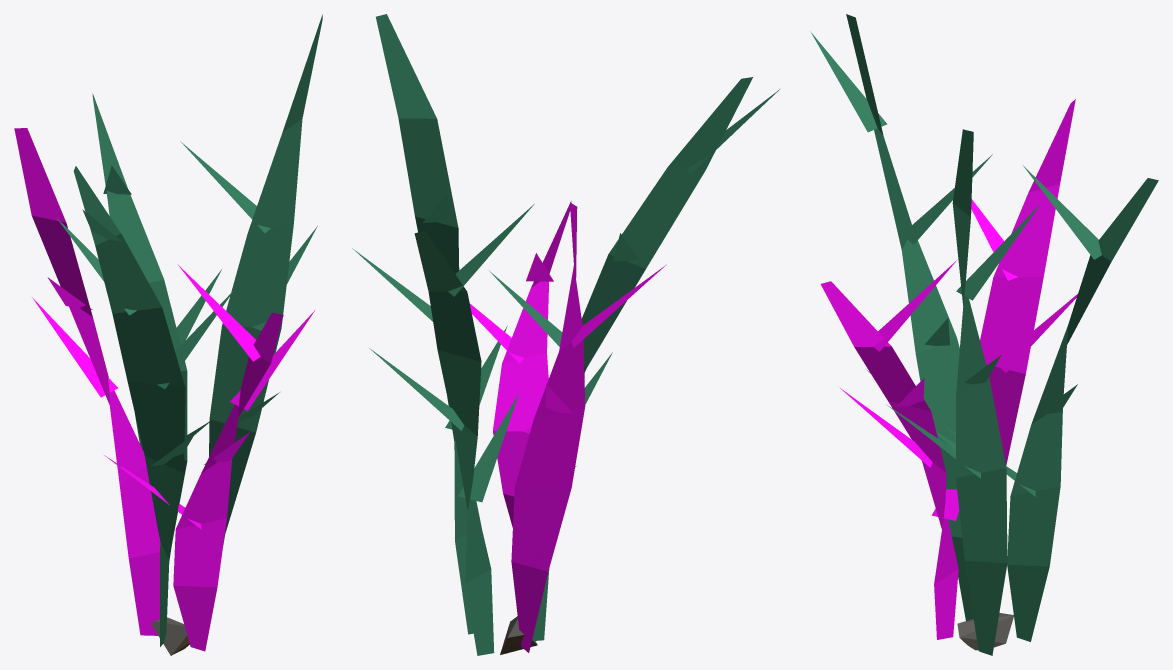
Rendered from seaweed_a.glb.
3 views of the same model, side by side, from view 1: azimuth 30°, elevation 25°; view 2: azimuth 150°, elevation 25°; view 3: azimuth 270°, elevation 25° (orthographic). The views are drawn at different scales.
Parts seen in each view (by area): view 1: seaweed_a__mesh; view 2: seaweed_a__mesh; view 3: seaweed_a__mesh.
Boxes of the visible parts, x1,y1,x2,y2 form: seaweed_a__mesh: (14, 14, 322, 655); seaweed_a__mesh: (352, 14, 779, 655); seaweed_a__mesh: (810, 14, 1158, 655).
Size of the model in its own units: 1.48 by 2.54 by 1.38.
2 materials, 2 textured.
